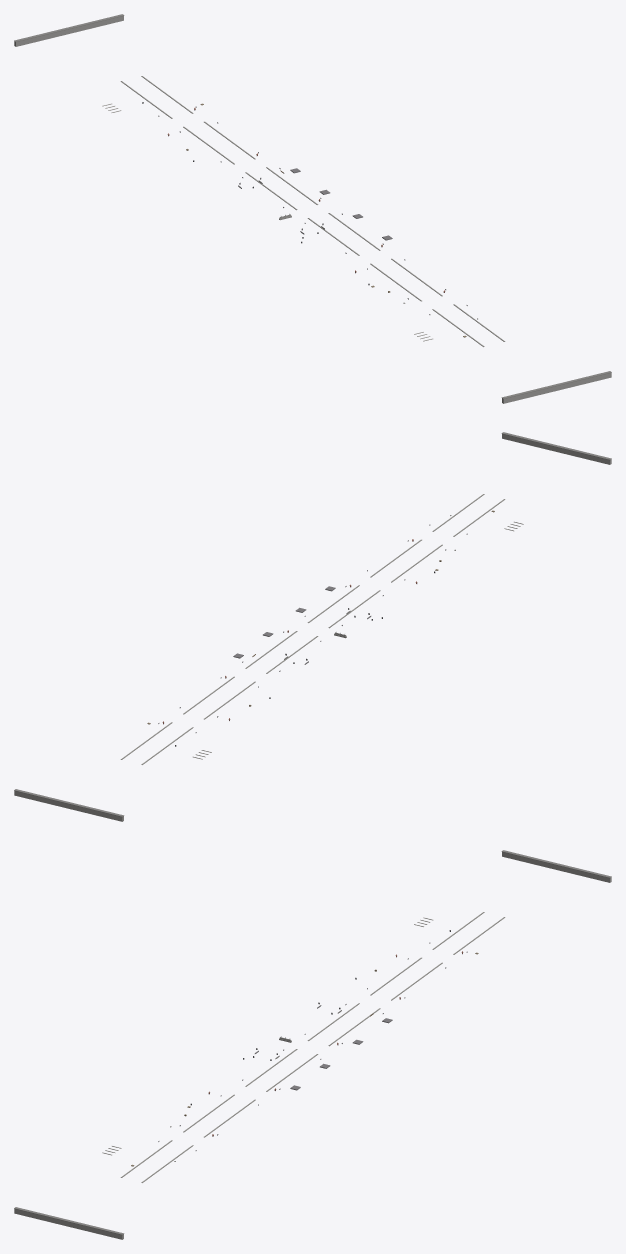
Rendered from city_cell_-2_0.glb.
3 renders of one model, top to bottom at view 1: azimuth 30°, elevation 25°; view 2: azimuth 150°, elevation 25°; view 3: azimuth 330°, elevation 25°, orthographic.
Visible parts, largest first — view 1: Cube.006; view 2: Cube.006; view 3: Cube.006.
Part boxes in pixels (x1,y1,x2,y2): Cube.006: [14, 14, 611, 403]; Cube.006: [14, 432, 611, 821]; Cube.006: [14, 850, 611, 1239].
Bounding box in the file's own units: 55.3 × 4.06 × 432.
